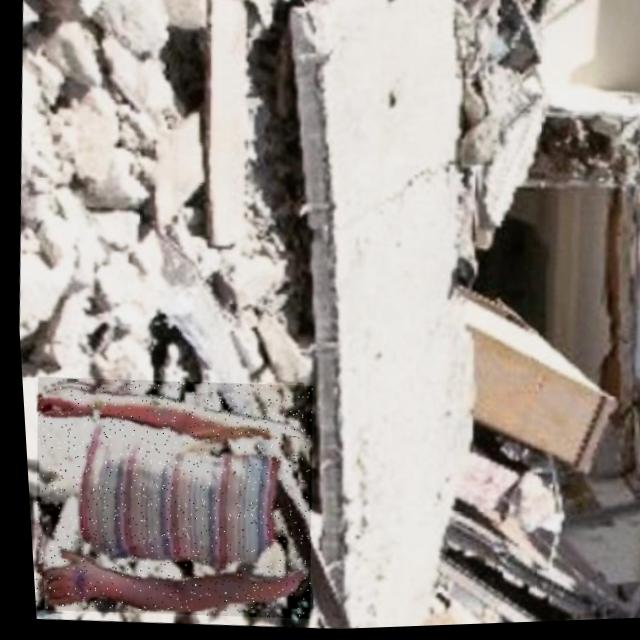Person in Rubble: (18, 368, 317, 628)
